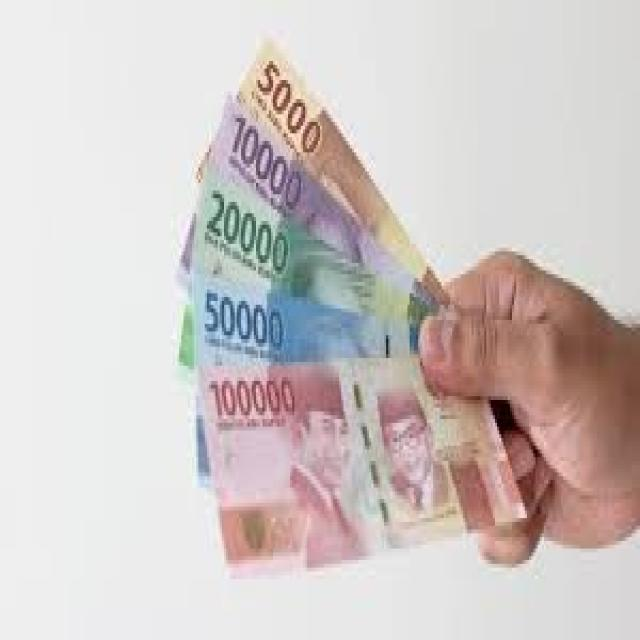dua puluh ribu rupiah: (195, 167, 439, 315)
lima puluh ribu rupiah: (193, 279, 419, 371)
lima ribu rupiah: (233, 33, 458, 308)
sepuluh ribu rupiah: (210, 96, 448, 315)
seratus ribu rupiah: (199, 354, 524, 573)
